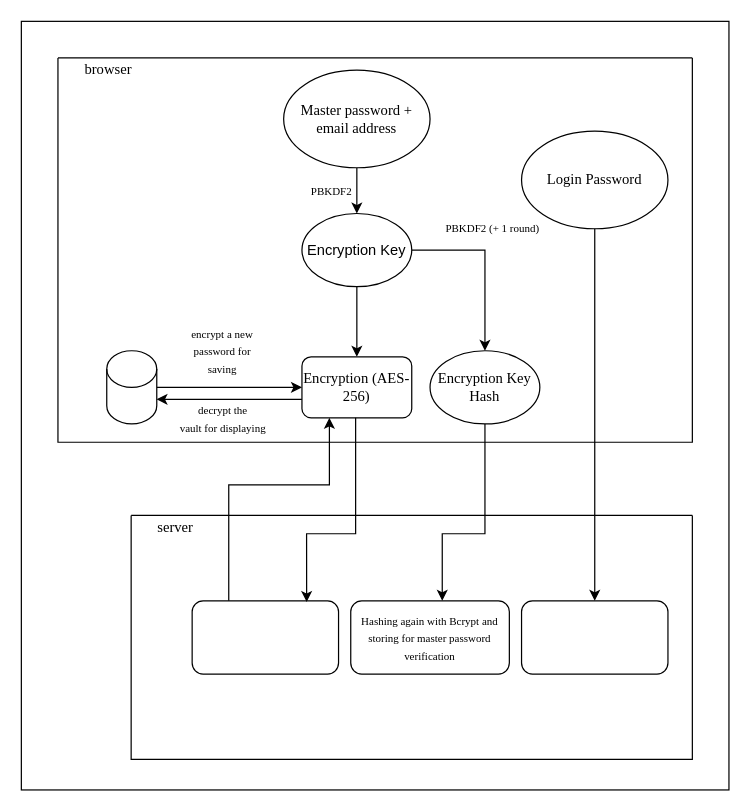
Some shapes in this 750 by 811 pixel diagram are drawn without their labels. Here are the shapes that lost their labels. From the top down, the centre of each, then its label:
At point (131, 387): "Vault".
At point (265, 637): "Saving encrypted vault".
At point (594, 637): "Hashing with Bcrypt for authentication".
